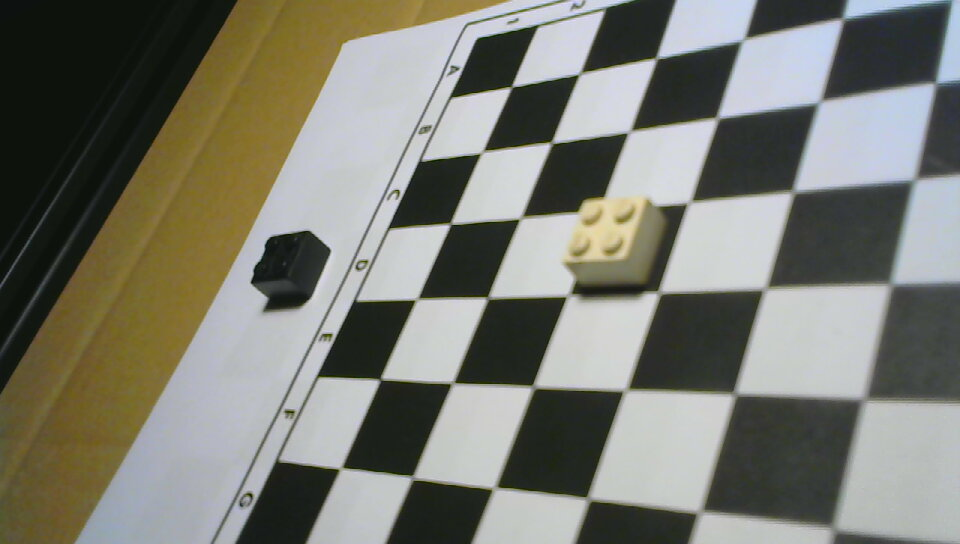wp: (552, 186, 674, 298)
